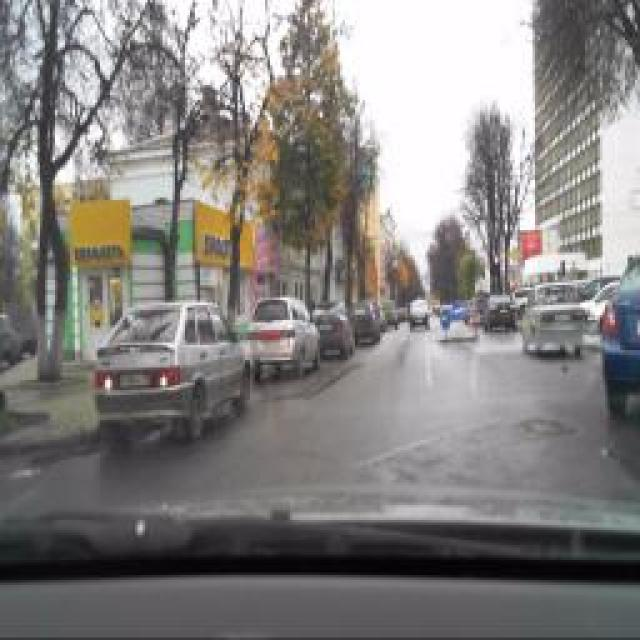sign: (452, 296, 466, 324), (439, 305, 451, 330)
